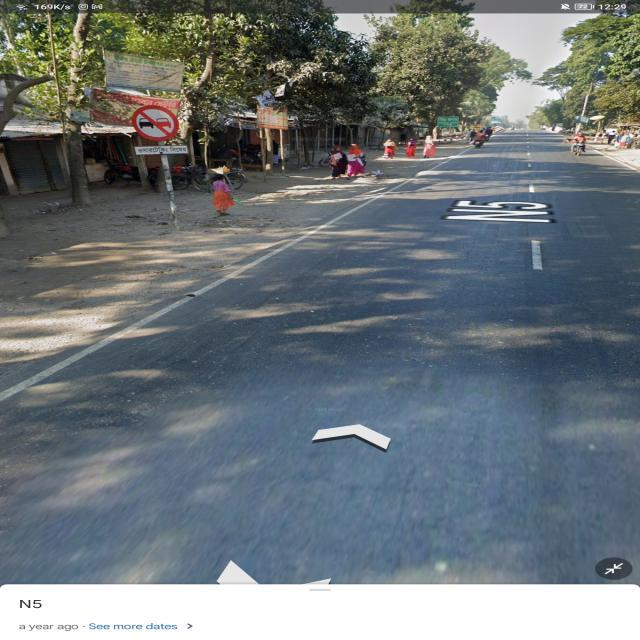Don-t-Overtracking: (122, 86, 190, 159)
